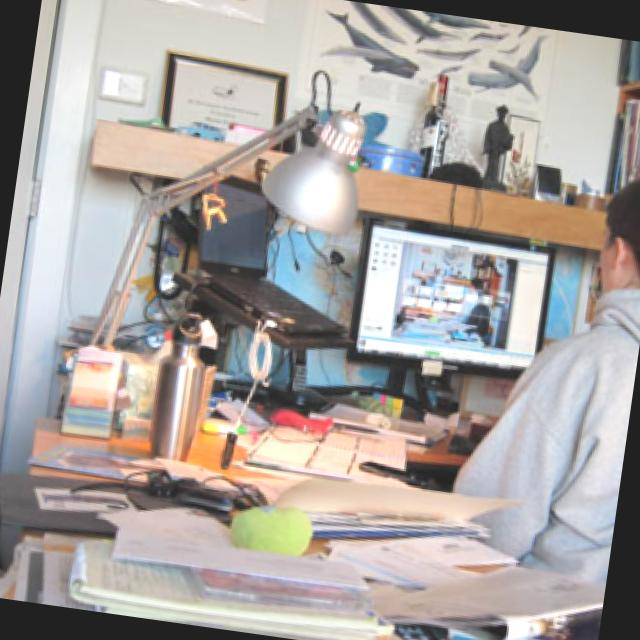mess: (0, 314, 632, 640), (112, 0, 640, 228)
